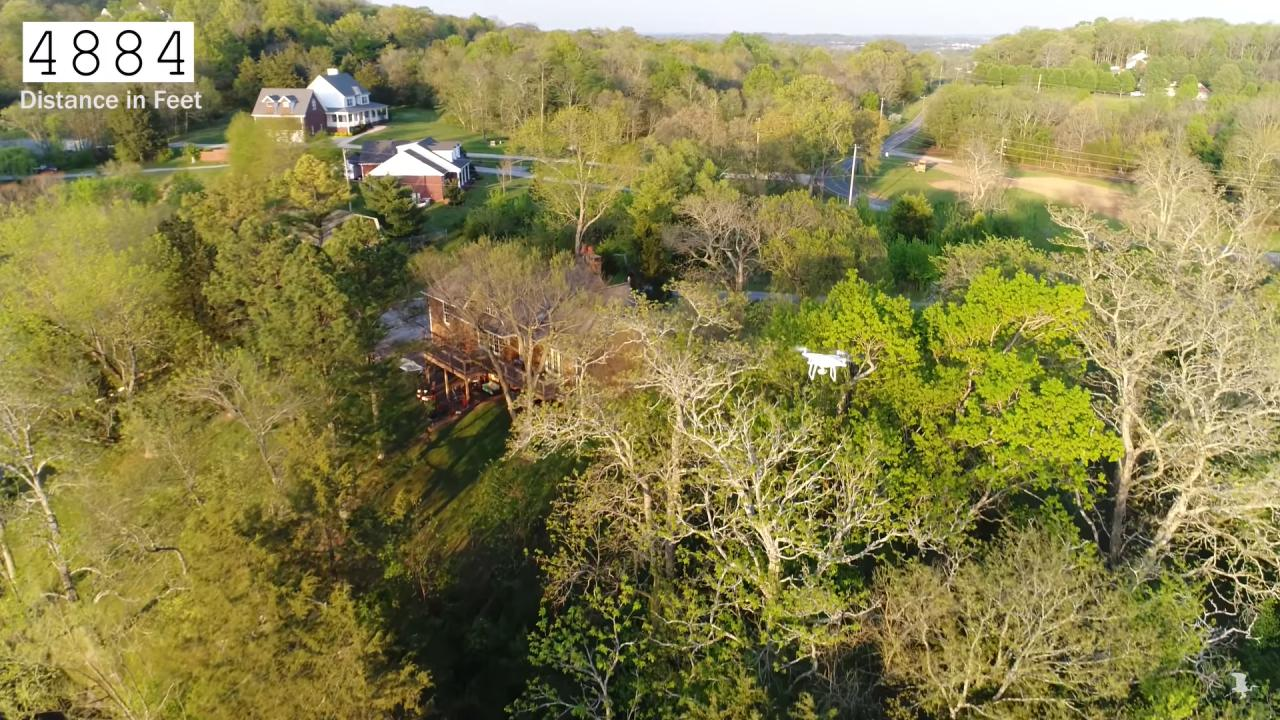Drone: (787, 339, 857, 385)
